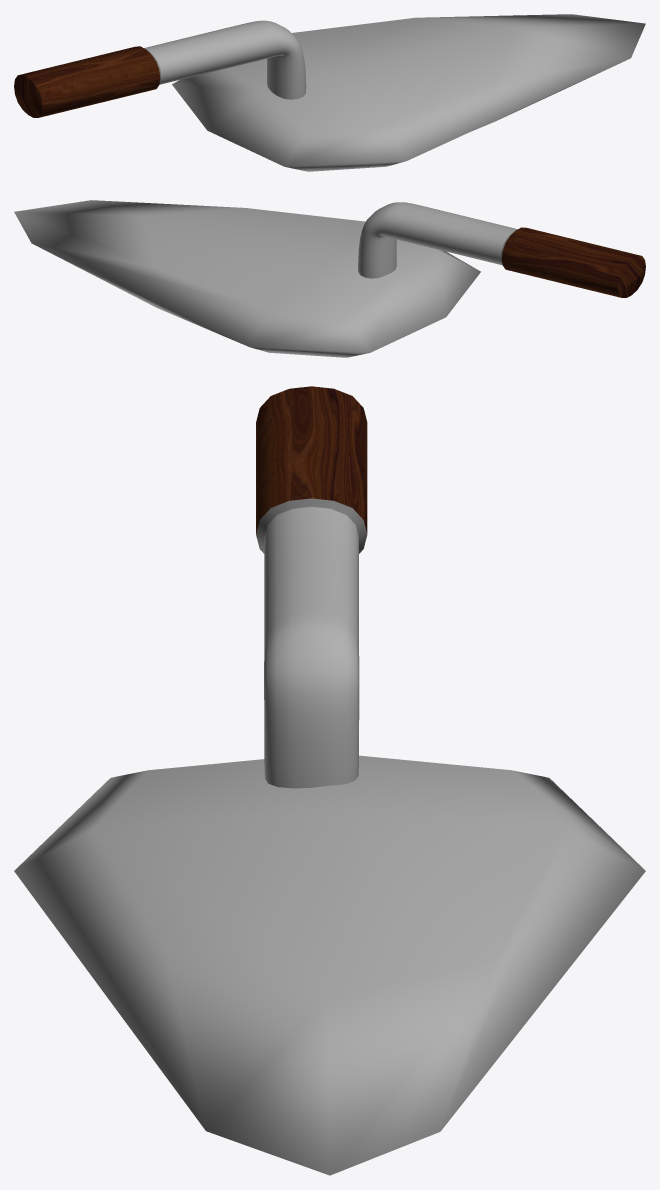
The model's file is leaneww.fbx.
3 renders of one model, top to bottom at view 1: azimuth 30°, elevation 25°; view 2: azimuth 150°, elevation 25°; view 3: azimuth 270°, elevation 25°, orthographic. The views are drawn at different scales.
Visible parts, largest first — view 1: pCube30; view 2: pCube30; view 3: pCube30.
Part boxes in pixels (left/top/right/bottom): pCube30: left=14, top=14, right=645, bottom=171; pCube30: left=14, top=200, right=645, bottom=357; pCube30: left=14, top=386, right=645, bottom=1175.
Bounding box in the file's own units: 2.93 × 0.5821 × 1.31.
Materials: 3 (1 with a texture image).
